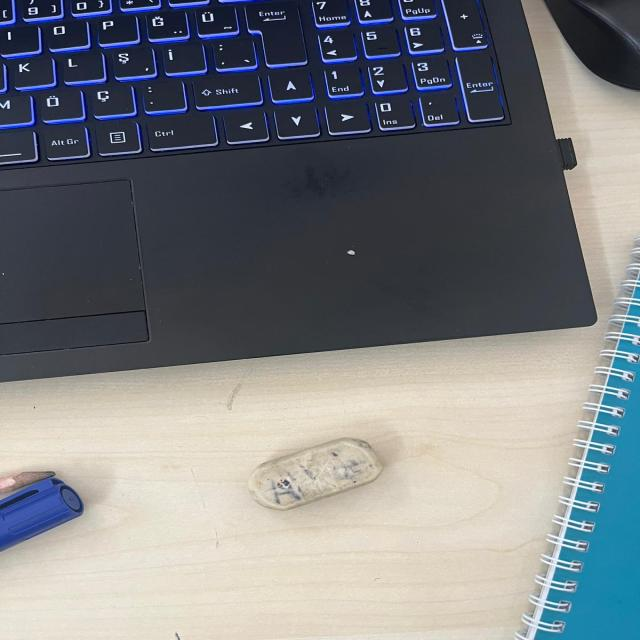eraser: (241, 432, 393, 516)
